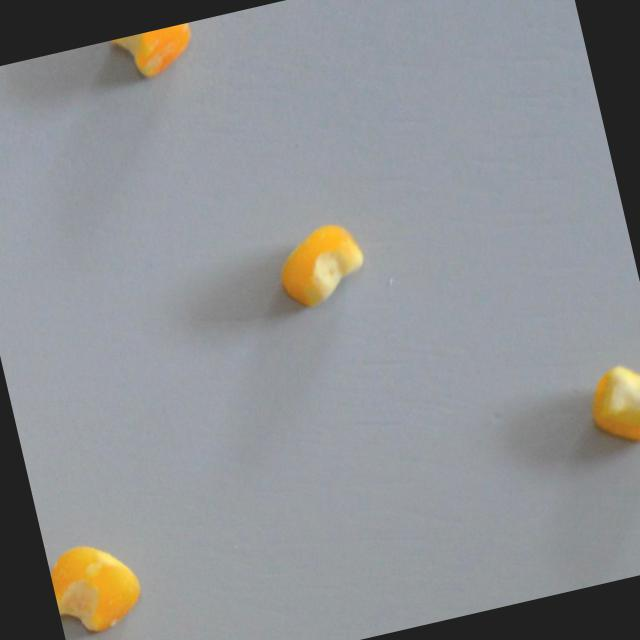no_desgerminado: (267, 214, 373, 314), (578, 356, 640, 456)
pelicula: (45, 531, 152, 640), (111, 22, 203, 88)
